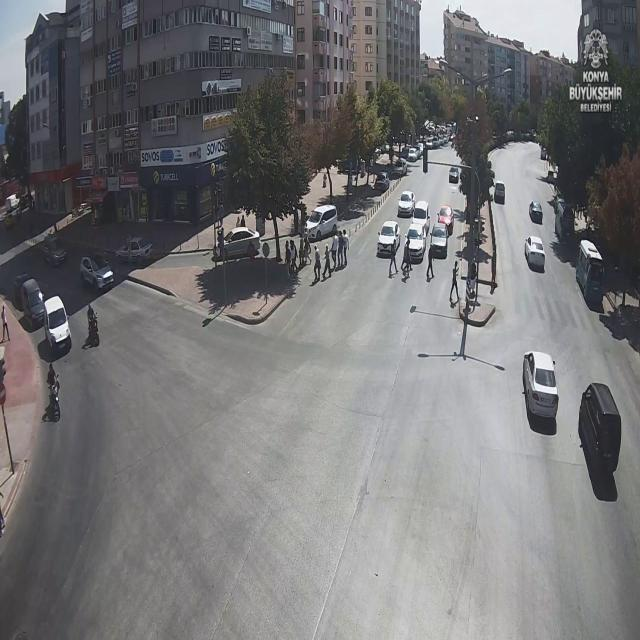Bus: (575, 240, 605, 306)
Car: (516, 349, 572, 424), (578, 386, 622, 478), (215, 227, 263, 261), (41, 296, 71, 349), (16, 278, 46, 325), (80, 255, 115, 291), (305, 204, 338, 242), (114, 236, 152, 264), (378, 220, 402, 256), (404, 224, 427, 261), (39, 236, 67, 266), (553, 200, 575, 238), (525, 236, 545, 270), (430, 224, 450, 258), (411, 200, 430, 230), (398, 190, 416, 218), (437, 205, 454, 234), (1, 205, 21, 225), (389, 160, 408, 178), (340, 158, 362, 173), (4, 194, 20, 213), (529, 201, 543, 222), (373, 173, 389, 191), (494, 180, 506, 203), (371, 144, 390, 156), (406, 148, 421, 162), (448, 167, 459, 184), (521, 131, 534, 141), (432, 138, 444, 148), (415, 143, 425, 154), (425, 139, 434, 149), (441, 136, 448, 145)
